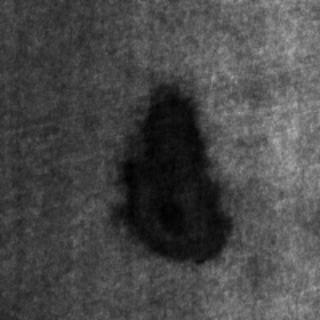patches: (106, 80, 227, 262)
